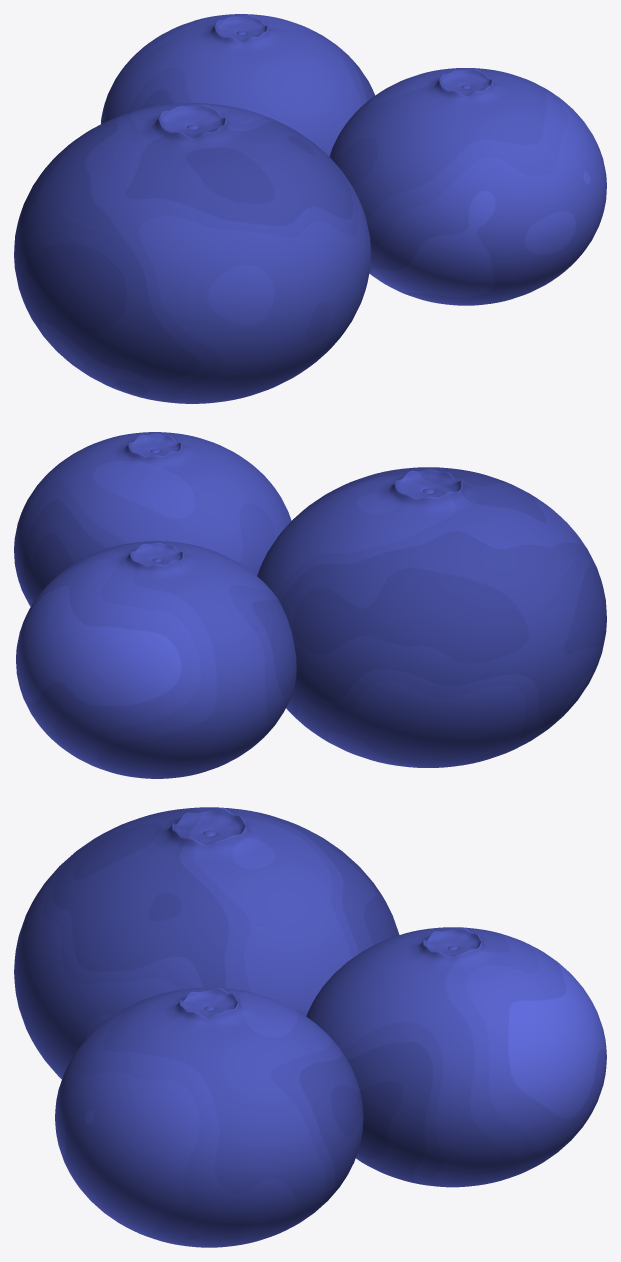
File: YabanMersini.fbx
The picture shows the model from 3 angles, top to bottom: view 1: azimuth 30°, elevation 25°; view 2: azimuth 150°, elevation 25°; view 3: azimuth 270°, elevation 25°; orthographic projection. The views are drawn at different scales.
Parts seen in each view (by area): view 1: yaban_mersini; view 2: yaban_mersini; view 3: yaban_mersini.
Boxes of the visible parts, x1,y1,x2,y2 form: yaban_mersini: (14, 14, 606, 403); yaban_mersini: (14, 432, 606, 778); yaban_mersini: (14, 807, 606, 1247).
Bounding box in the file's own units: 39.16 × 18.03 × 33.42.
Materials: 1 (1 with a texture image).
